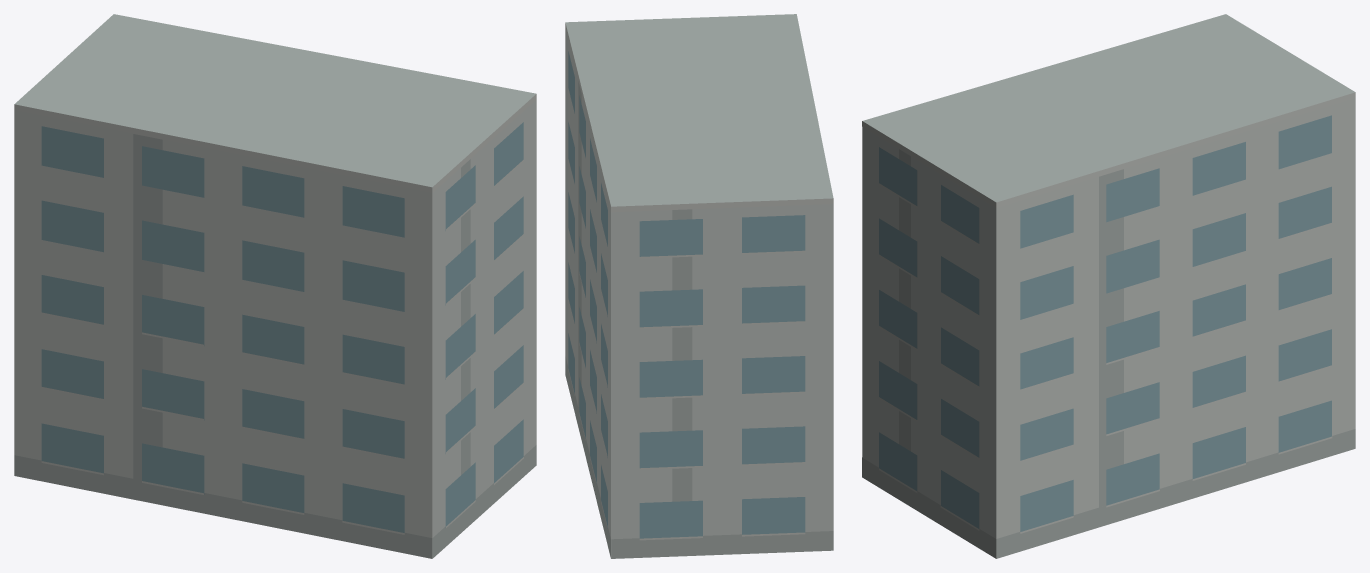
File: survey-upis-32828545.glb
3 renders of one model, left to right at view 1: azimuth 30°, elevation 25°; view 2: azimuth 150°, elevation 25°; view 3: azimuth 270°, elevation 25°, orthographic. The views are drawn at different scales.
Visible parts, largest first — view 1: survey-upis-32828545.tmp; view 2: survey-upis-32828545.tmp; view 3: survey-upis-32828545.tmp.
Part boxes in pixels (box(x1,y1,x2,y2)): survey-upis-32828545.tmp: box(14, 14, 536, 558); survey-upis-32828545.tmp: box(565, 14, 833, 558); survey-upis-32828545.tmp: box(862, 14, 1355, 558).
Size of the model in its own units: 17.3 by 15.25 by 19.14.
